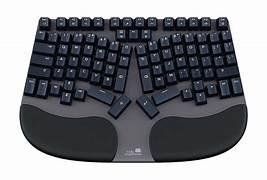keyboard: (19, 15, 248, 162)
